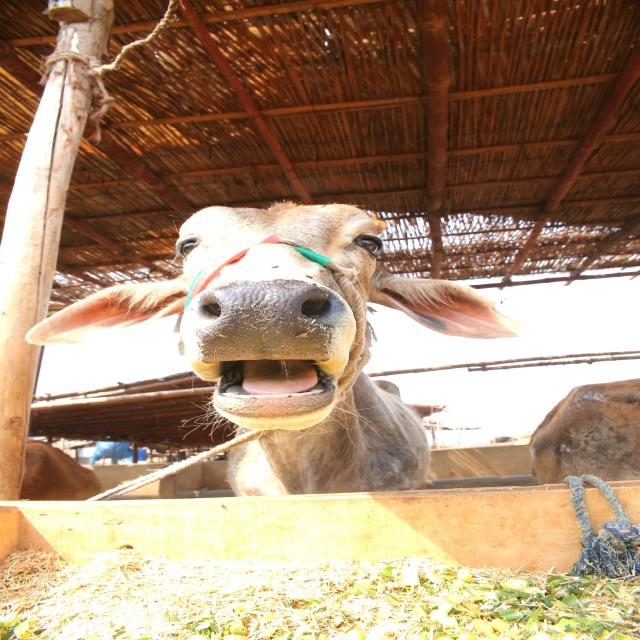muzzles: (193, 277, 346, 367)
